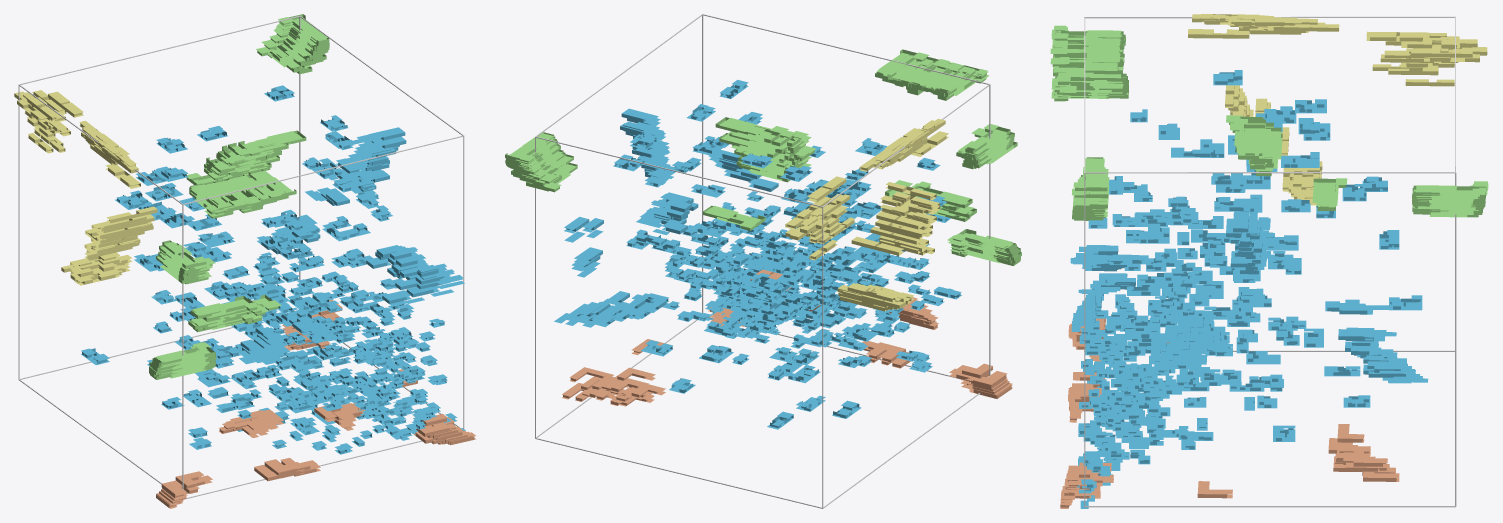
The model's file is orthogonal.glb.
The picture shows the model from 3 angles, left to right: view 1: azimuth 30°, elevation 25°; view 2: azimuth 150°, elevation 25°; view 3: azimuth 270°, elevation 25°; orthographic projection. The views are drawn at different scales.
Visible parts, largest first — view 1: orthogonal, barcelona pavilion, farnsworth house, eames house, stahl house, boundarz; view 2: orthogonal, barcelona pavilion, eames house, farnsworth house, stahl house, boundarz; view 3: orthogonal, barcelona pavilion, farnsworth house, eames house, stahl house, boundarz.
Boxes of the visible parts, x1=… form: orthogonal: x1=81, y1=85, x2=465, y2=454; barcelona pavilion: x1=149, y1=14, x2=329, y2=379; farnsworth house: x1=238, y1=127, x2=464, y2=364; eames house: x1=14, y1=90, x2=157, y2=285; stahl house: x1=156, y1=299, x2=475, y2=508; boundarz: x1=18, y1=15, x2=464, y2=498; orthogonal: x1=613, y1=79, x2=961, y2=429; barcelona pavilion: x1=505, y1=49, x2=1021, y2=265; eames house: x1=785, y1=118, x2=948, y2=311; farnsworth house: x1=554, y1=108, x2=929, y2=327; stahl house: x1=562, y1=269, x2=1012, y2=406; boundarz: x1=535, y1=14, x2=990, y2=508; orthogonal: x1=1077, y1=70, x2=1422, y2=508; barcelona pavilion: x1=1050, y1=25, x2=1488, y2=220; farnsworth house: x1=1070, y1=211, x2=1428, y2=383; eames house: x1=1188, y1=14, x2=1487, y2=205; stahl house: x1=1060, y1=318, x2=1399, y2=508; boundarz: x1=1084, y1=16, x2=1456, y2=507.
Size of the model in its own units: 30.63 by 26.7 by 31.38.
